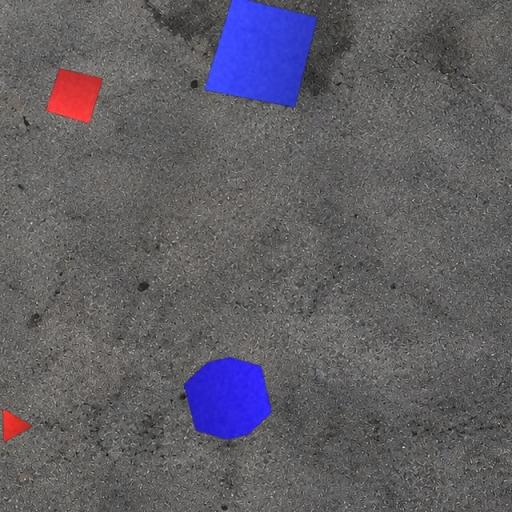BLUE_SQUARE: (204, 0, 318, 109)
RED_SQUARE: (45, 68, 103, 125)
